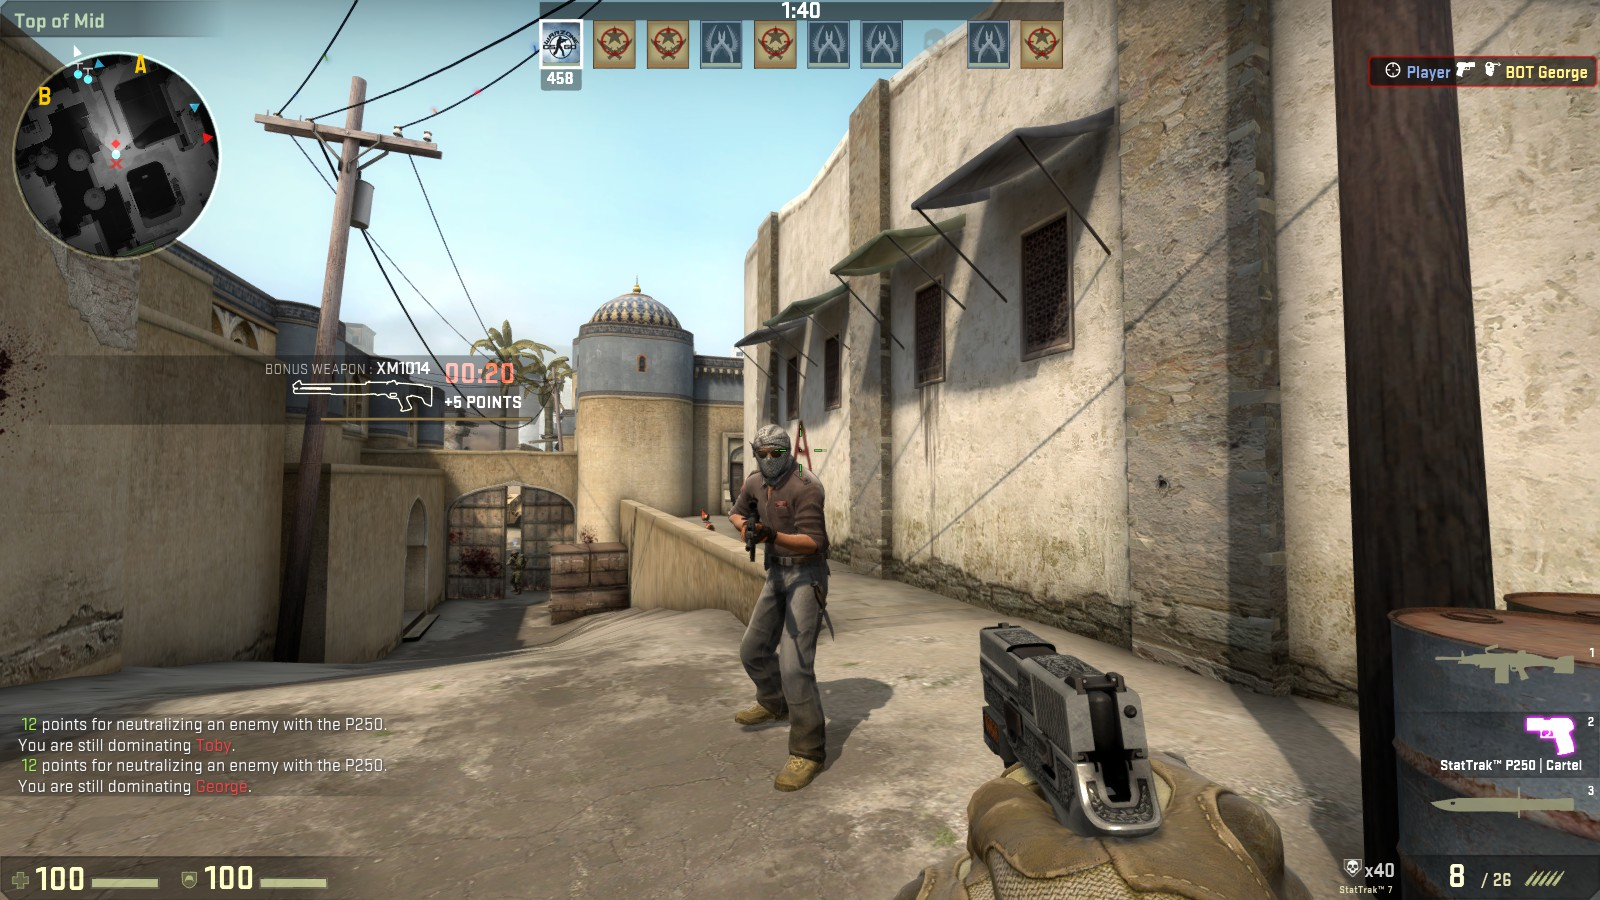t: (734, 421, 827, 787)
th: (744, 422, 799, 487)
